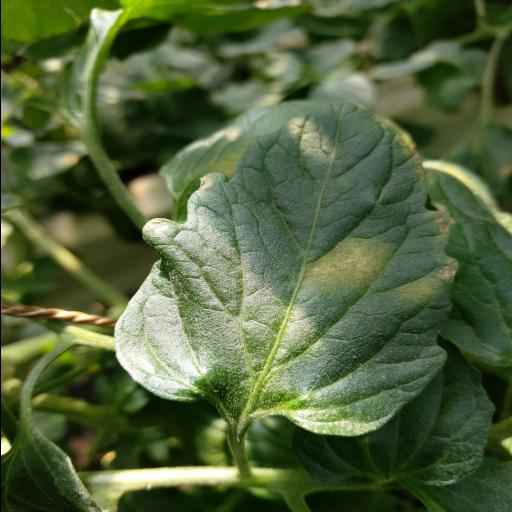disease_tomato: (111, 98, 459, 436)
